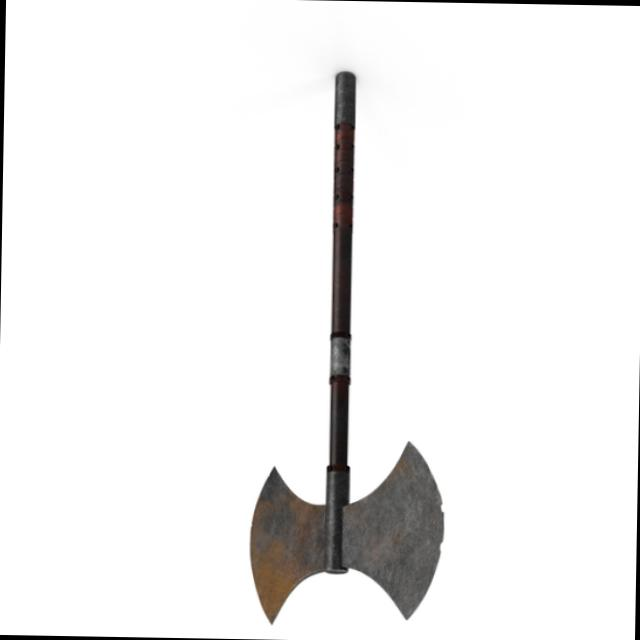Gun: (238, 45, 454, 640)
